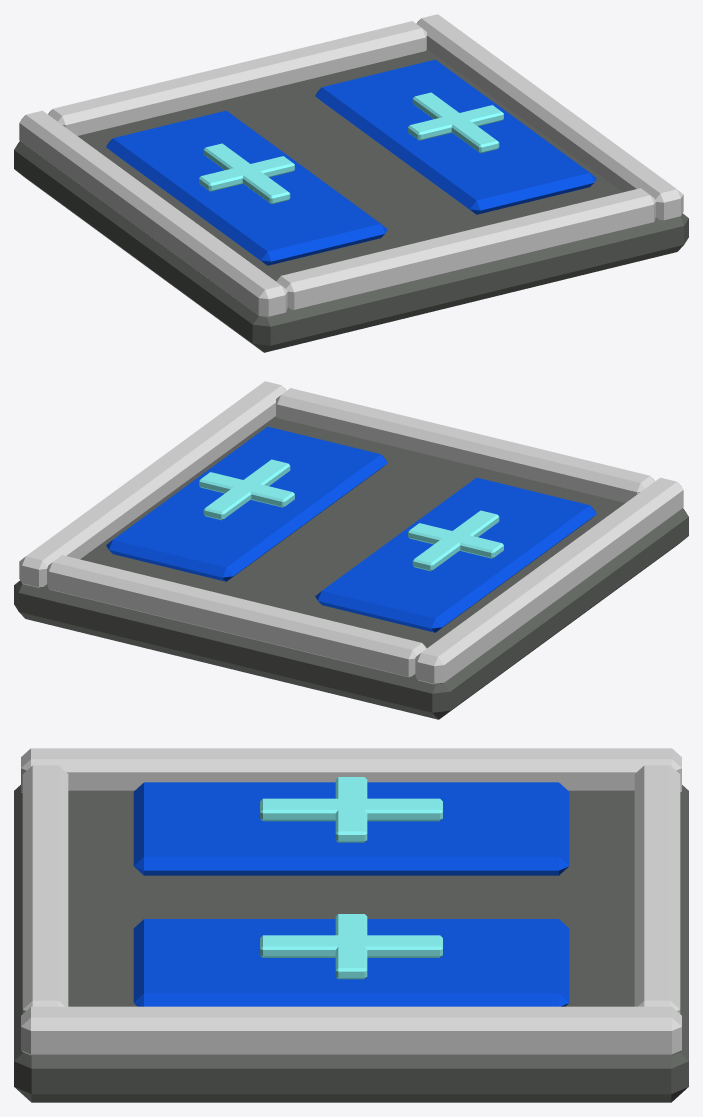
File: terrain-cloner.glb
3 renders of one model, top to bottom at view 1: azimuth 30°, elevation 25°; view 2: azimuth 150°, elevation 25°; view 3: azimuth 270°, elevation 25°, orthographic. The views are drawn at different scales.
Visible parts, largest first — view 1: terrain-cloner; view 2: terrain-cloner; view 3: terrain-cloner.
Part boxes in pixels (<box>): terrain-cloner: <box>14,14,688,352</box>; terrain-cloner: <box>14,381,688,719</box>; terrain-cloner: <box>14,748,688,1102</box>.
Size of the model in its own units: 0.96 by 0.149 by 0.96.
